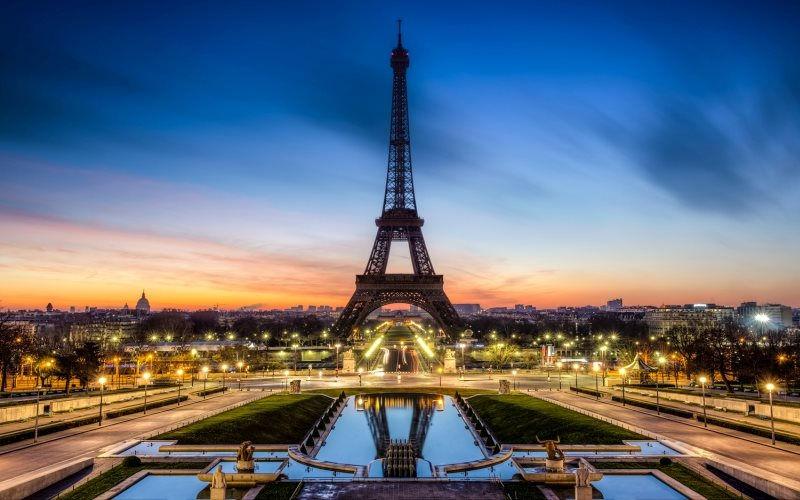tower: (315, 7, 478, 369)
